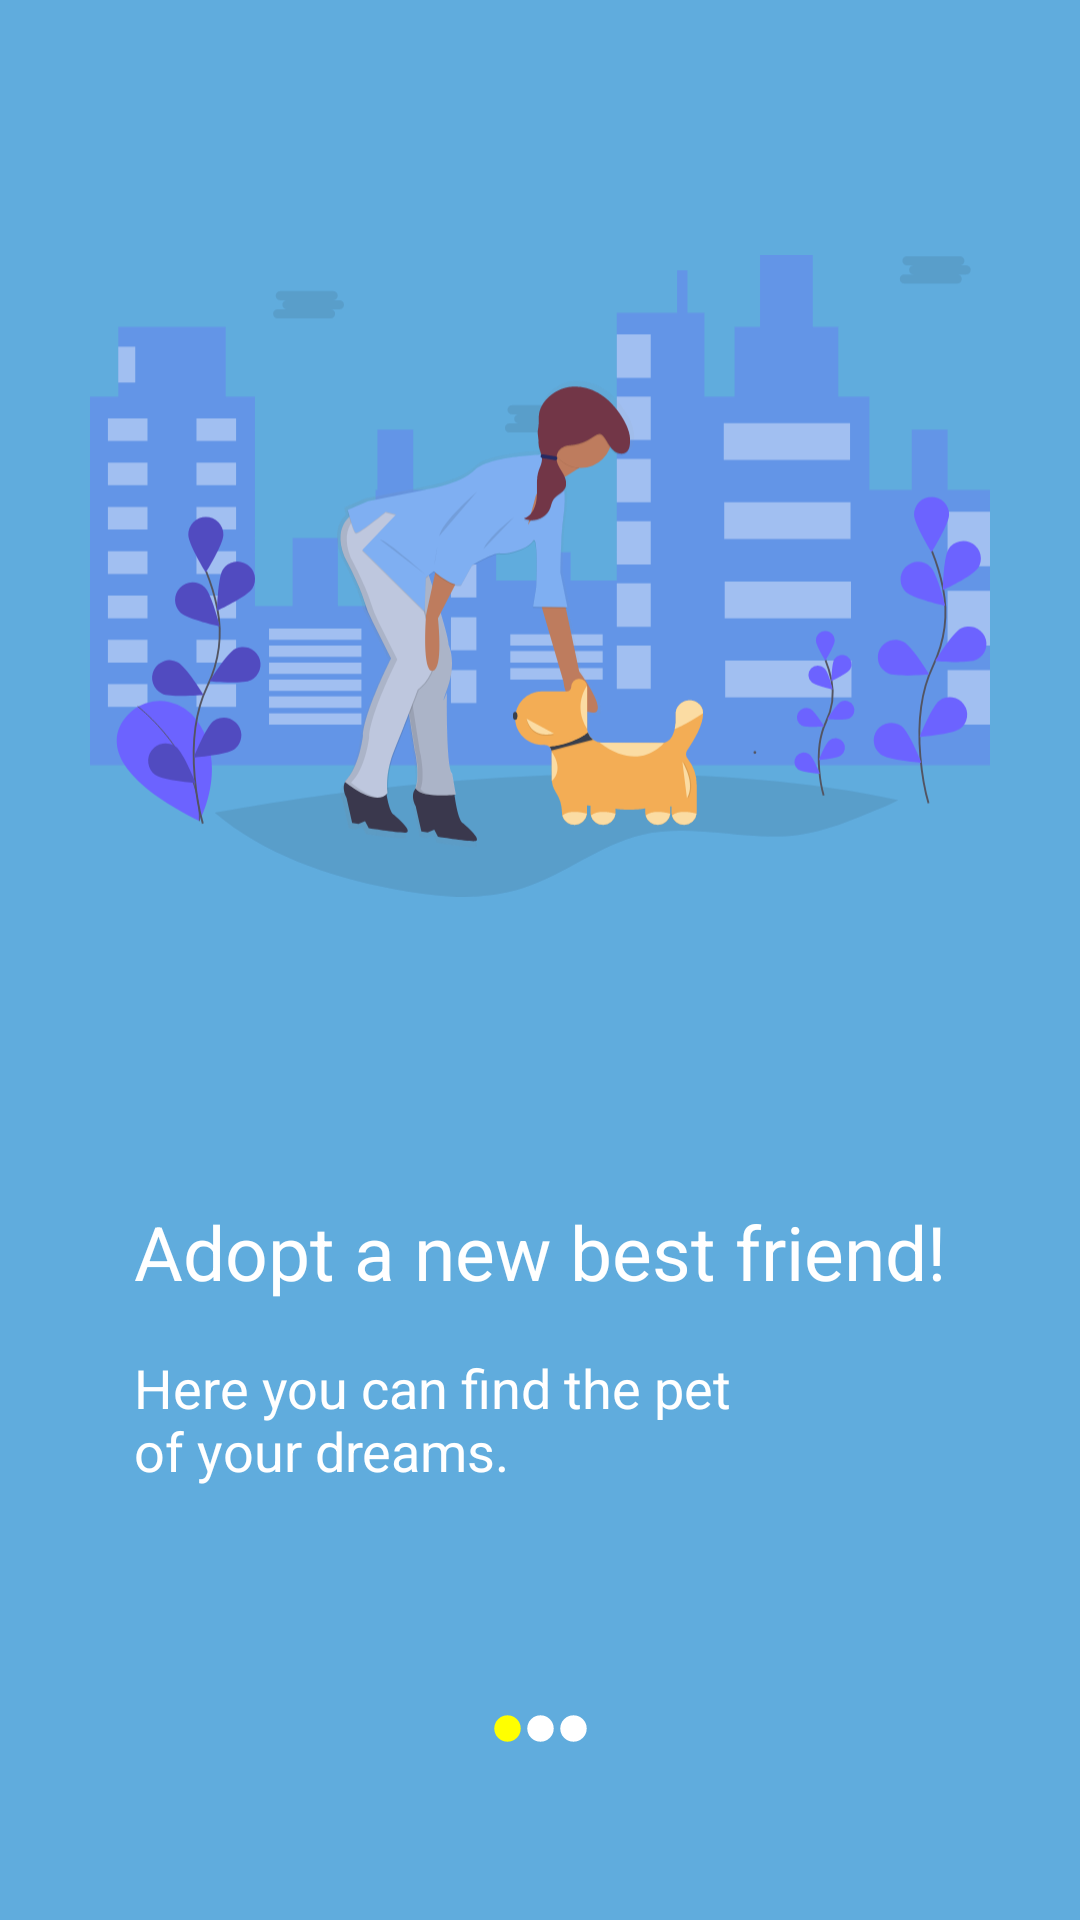

Point at icon controls on the screen. Image size 1080w x 1920h, points as point (x, y).
circle: point (507, 1728), point (540, 1728), point (573, 1728)
